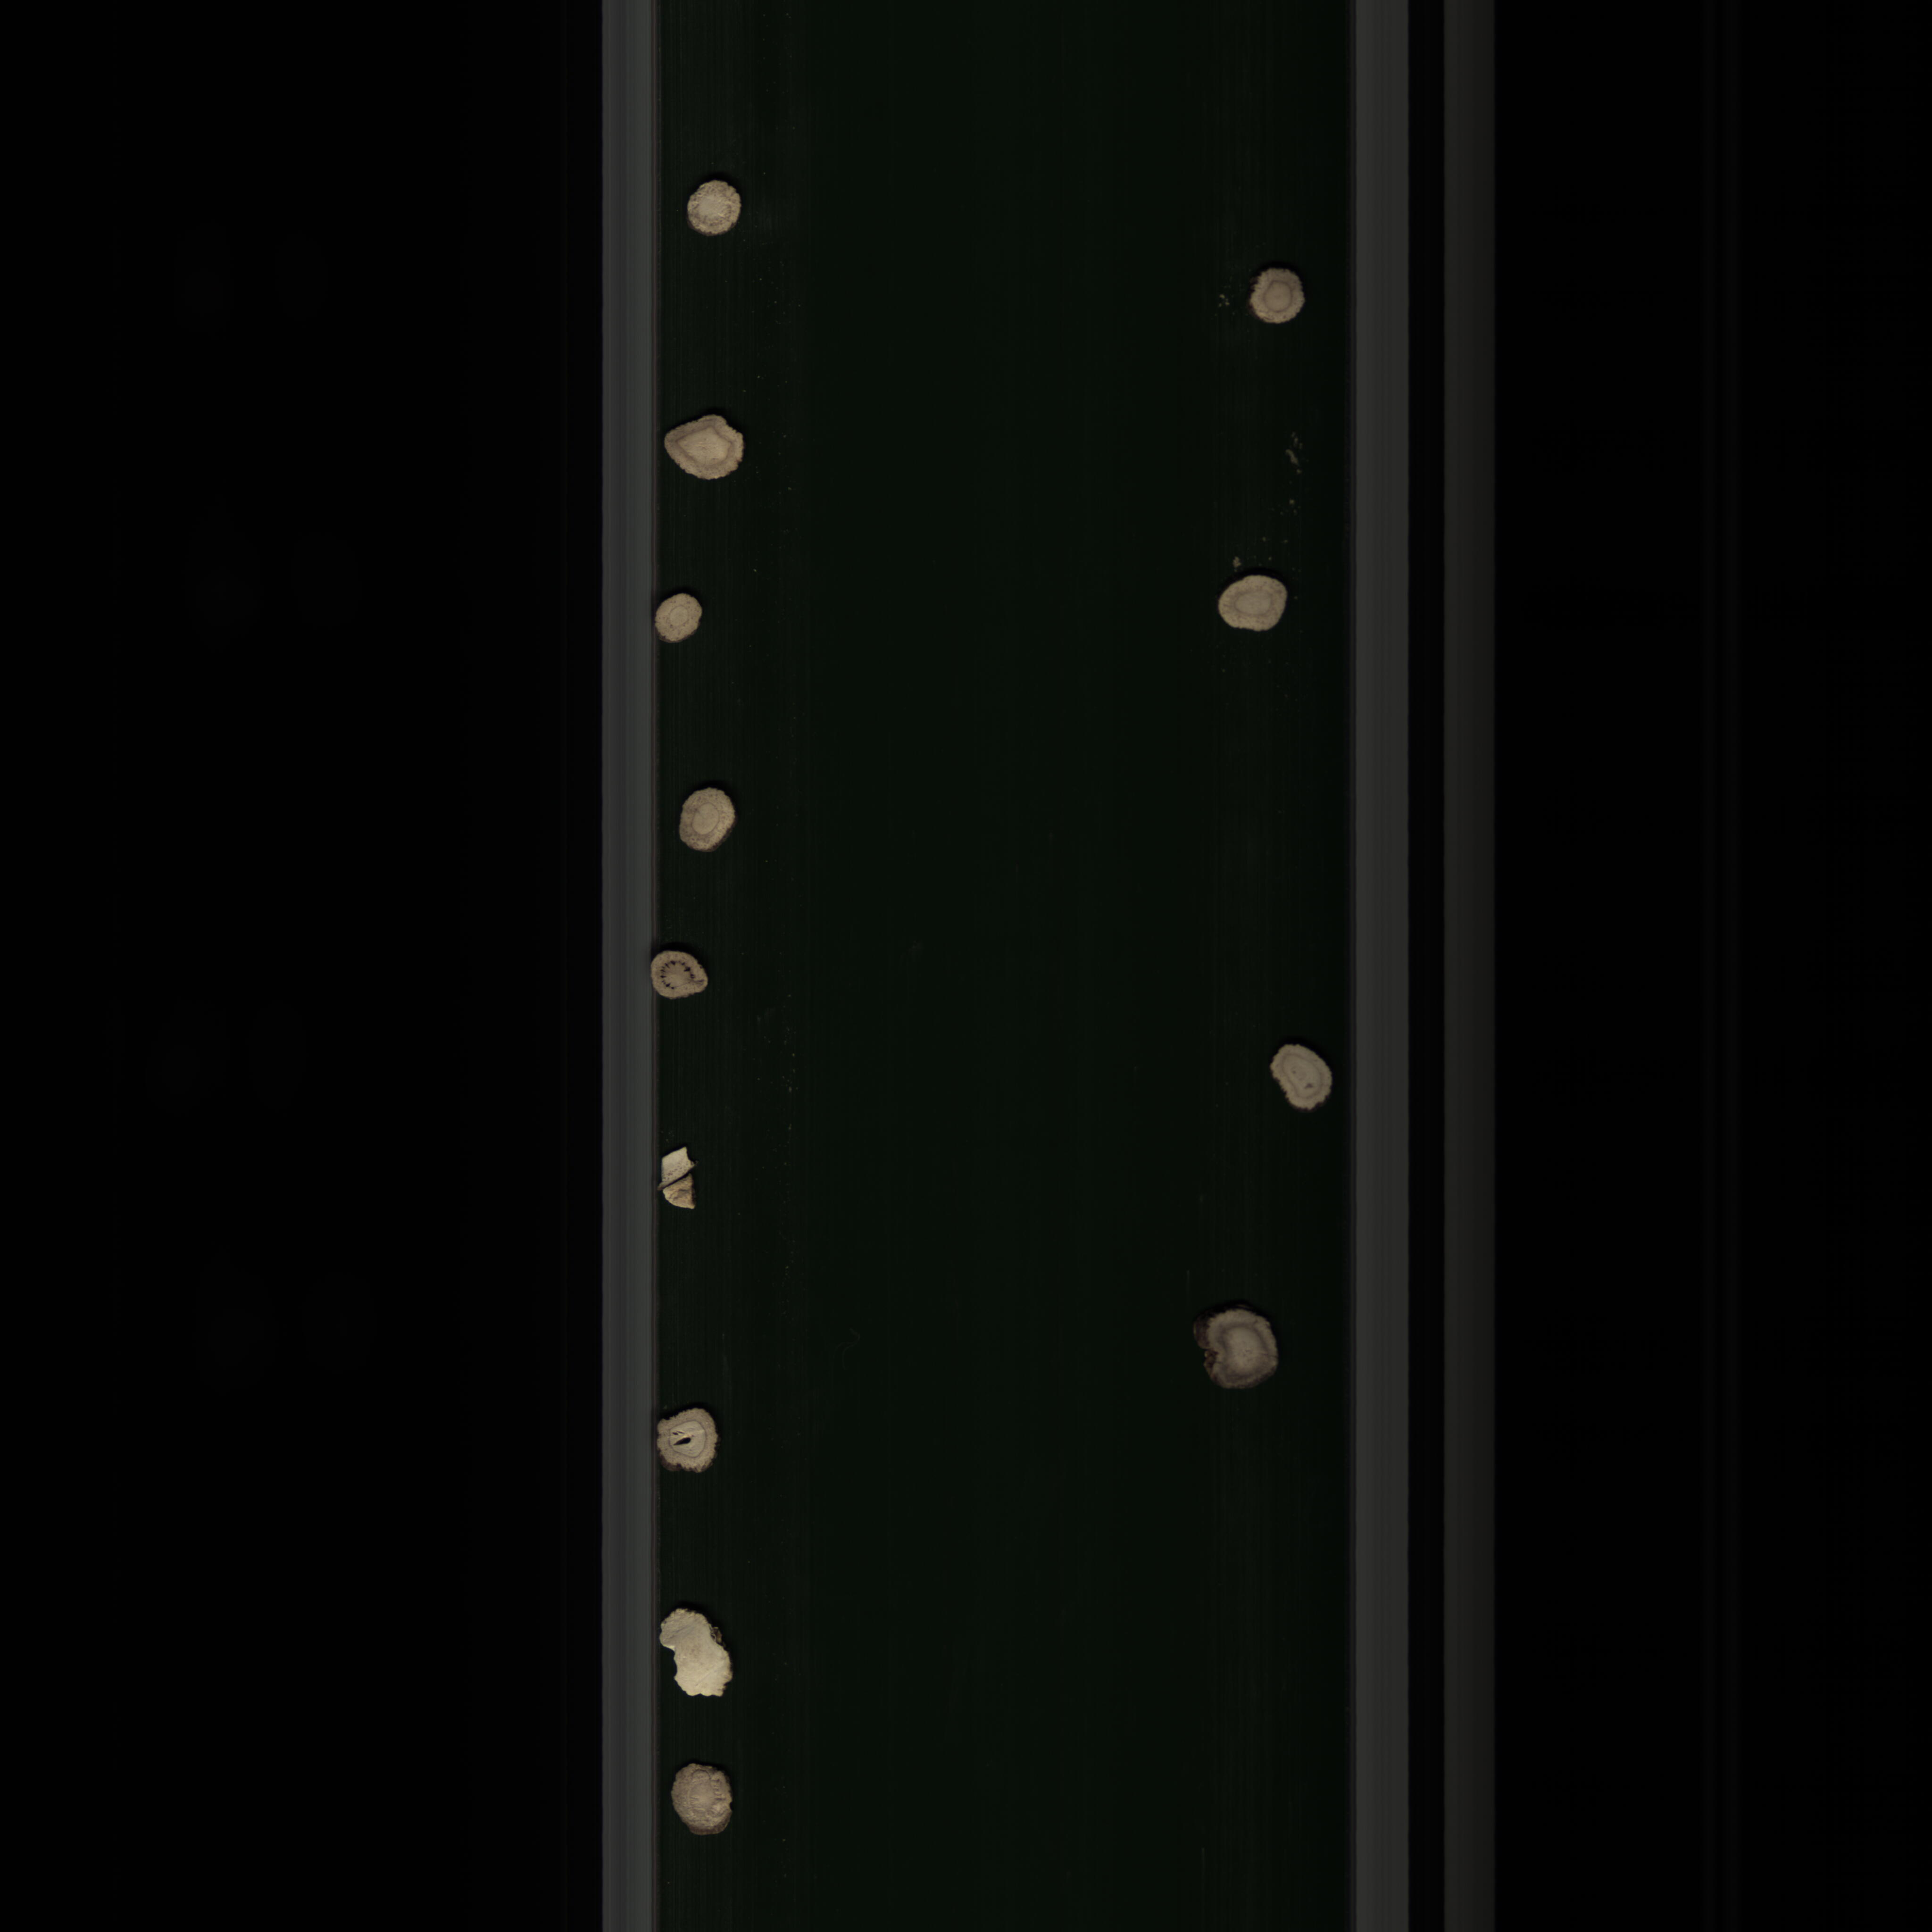debris: (651, 1603, 738, 1709), (658, 1139, 709, 1217)
hole: (649, 1403, 718, 1488), (640, 939, 715, 1010)
moldy: (1194, 1302, 1295, 1391)
